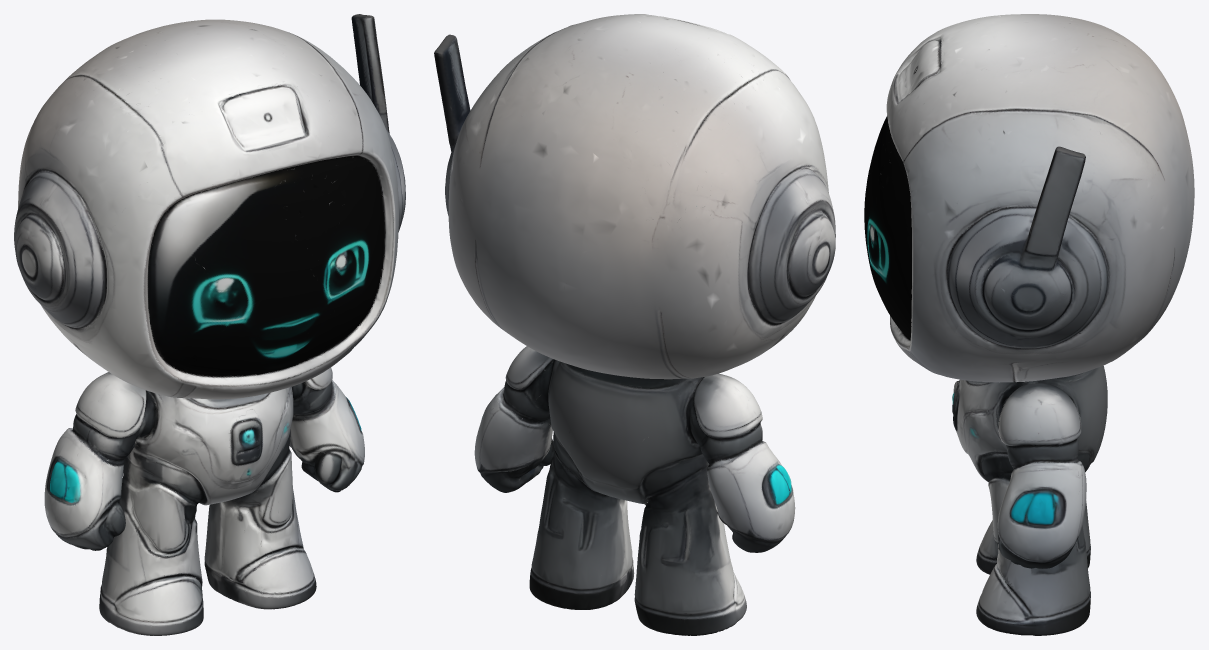
Rendered from robot_souriant.glb.
3 views of the same model, side by side, from view 1: azimuth 30°, elevation 25°; view 2: azimuth 150°, elevation 25°; view 3: azimuth 270°, elevation 25° (orthographic).
Visible parts, largest first — view 1: geometry_0; view 2: geometry_0; view 3: geometry_0.
Part boxes in pixels (x1,y1,x2,y2): geometry_0: [14, 14, 405, 635]; geometry_0: [434, 14, 835, 635]; geometry_0: [864, 14, 1194, 635].
Size of the model in its own units: 0.6838 by 1 by 0.5421.
1 material, 1 textured.
